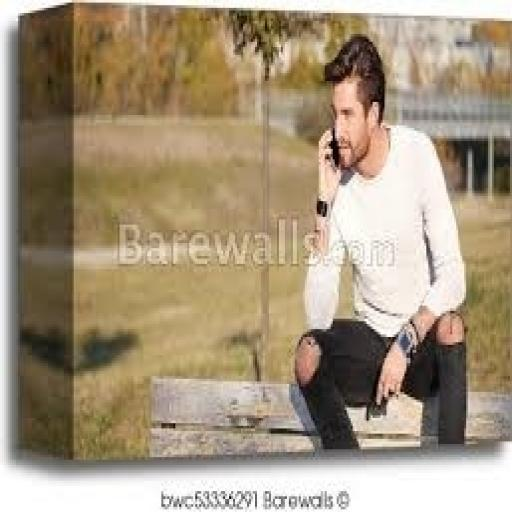calling: (289, 32, 470, 454)
